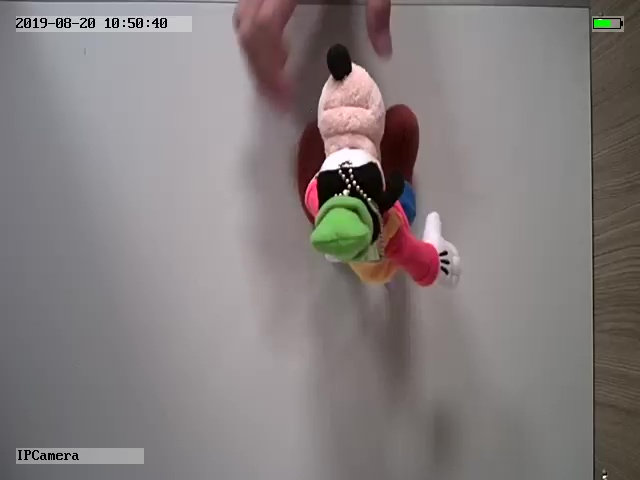goofy: (295, 42, 462, 294)
